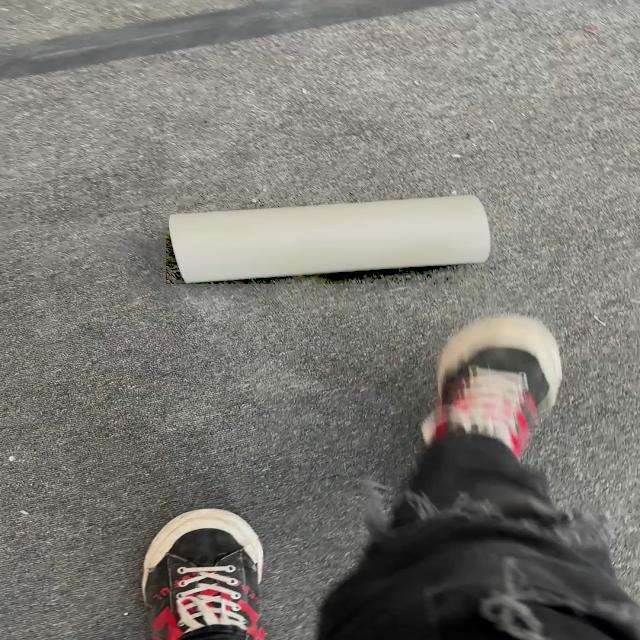Coral: (166, 193, 492, 284)
